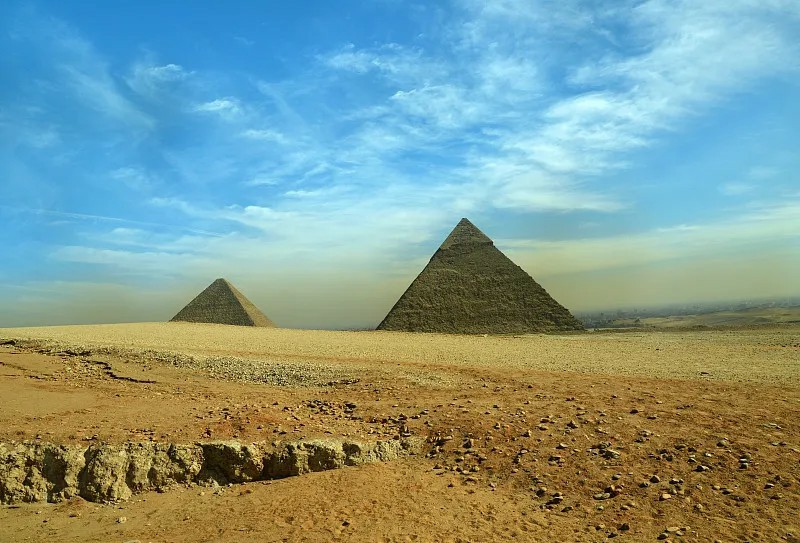Pyramid: (376, 219, 586, 331), (169, 280, 278, 326)
